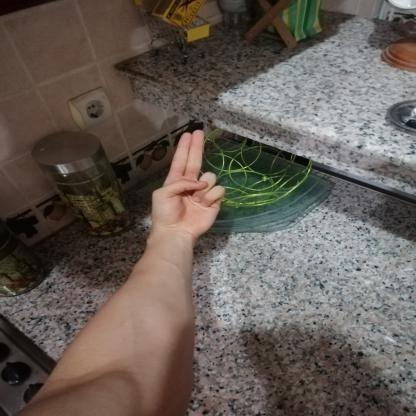TA: (139, 120, 236, 243)
